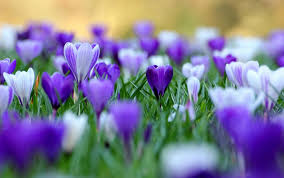flower: (119, 15, 214, 95), (26, 34, 124, 85), (8, 96, 74, 165), (214, 111, 281, 175), (228, 51, 284, 113), (150, 54, 198, 108), (162, 140, 225, 178)
